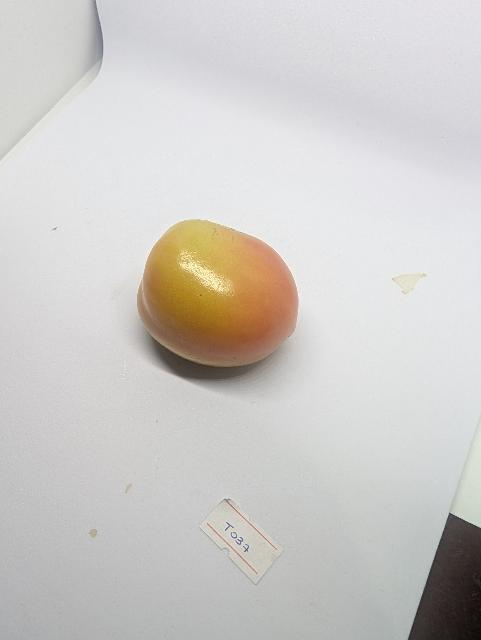turning: (132, 212, 316, 381)
